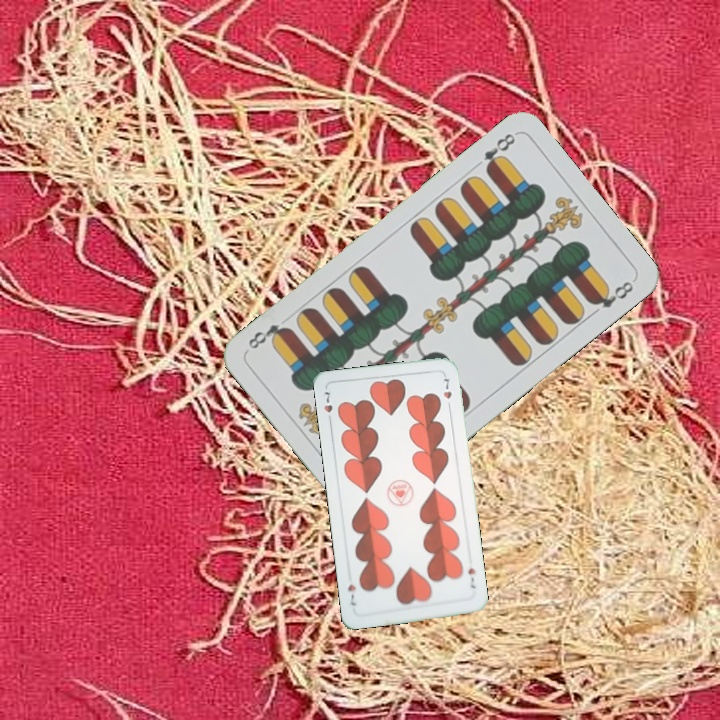E8: (479, 129, 518, 176)
H7: (320, 387, 335, 426), (464, 564, 478, 591)
